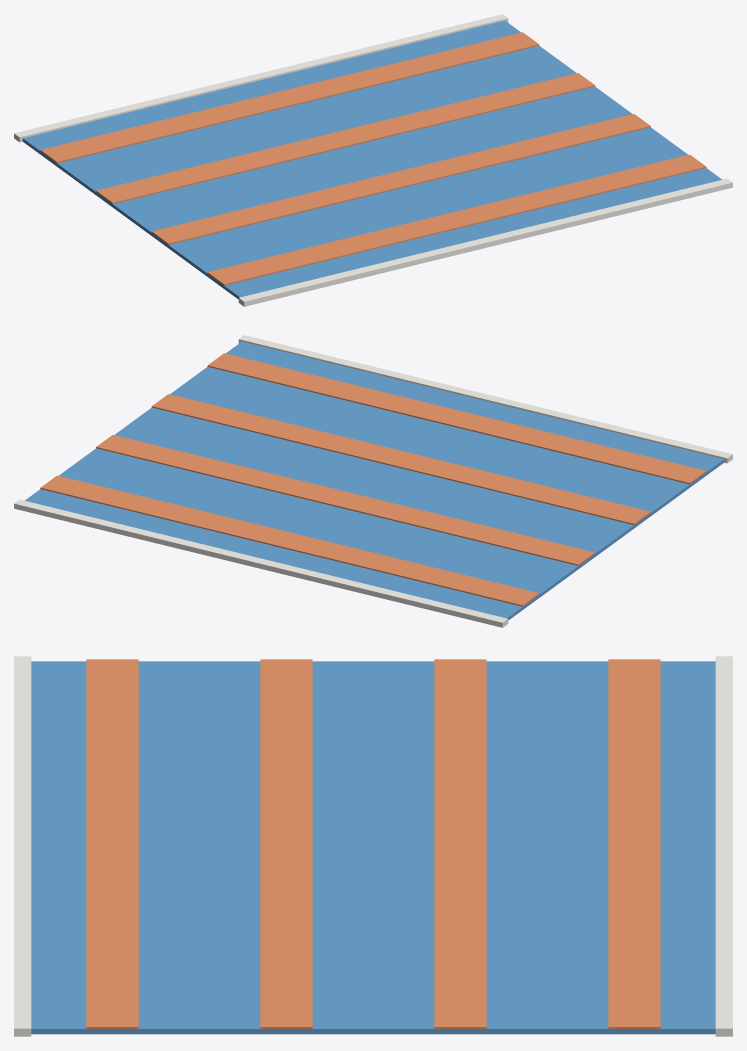
The model's file is caravan-park-and-campsite-awning-mat-2ef54a75__35369.glb.
3 renders of one model, top to bottom at view 1: azimuth 30°, elevation 25°; view 2: azimuth 150°, elevation 25°; view 3: azimuth 270°, elevation 25°, orthographic. The views are drawn at different scales.
Parts seen in each view (by area): view 1: awning-mat-azure, awning-mat-flame, awning-mat-shell; view 2: awning-mat-azure, awning-mat-flame, awning-mat-shell; view 3: awning-mat-azure, awning-mat-flame, awning-mat-shell.
Part boxes in pixels (x1,y1,x2,y2): awning-mat-azure: (22, 20, 721, 299); awning-mat-flame: (40, 32, 706, 285); awning-mat-shell: (14, 14, 732, 306); awning-mat-azure: (25, 341, 724, 620); awning-mat-flame: (40, 353, 706, 606); awning-mat-shell: (14, 335, 732, 627); awning-mat-azure: (31, 661, 715, 1034); awning-mat-flame: (86, 659, 660, 1028); awning-mat-shell: (14, 656, 732, 1036).
Bounding box in the file's own units: 3.04 × 0.0301 × 2.48.
